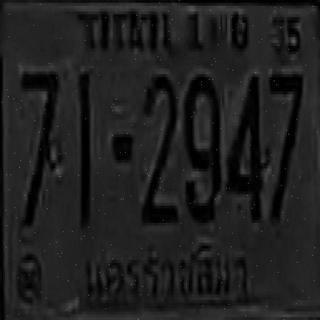N01: (79, 72, 90, 226)
N02: (142, 72, 177, 223)
N04: (226, 72, 262, 220)
N07: (20, 69, 58, 226), (268, 72, 303, 220), (20, 69, 58, 183)
N09: (183, 72, 220, 223)
P30: (83, 237, 254, 309)
